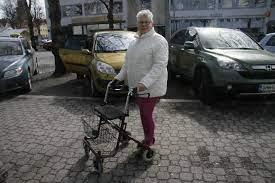walking_frame: (81, 9, 169, 172)
